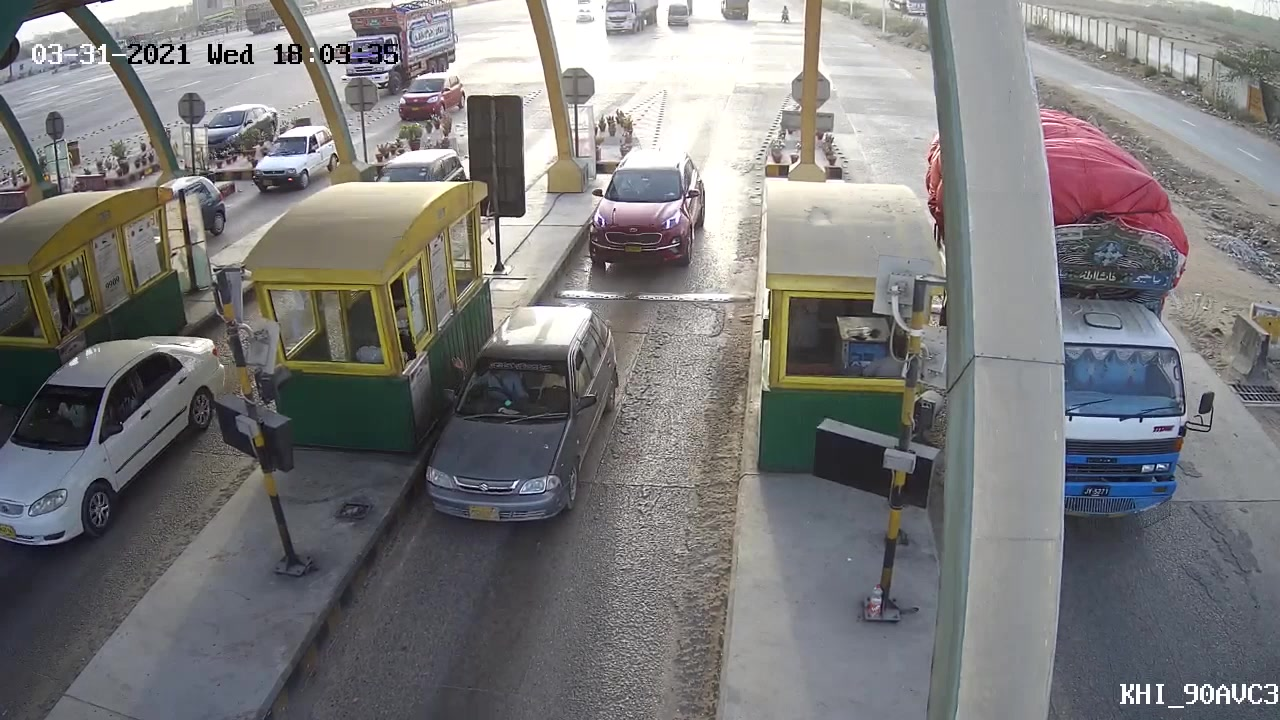F1: (412, 298, 635, 530), (582, 135, 710, 277)
